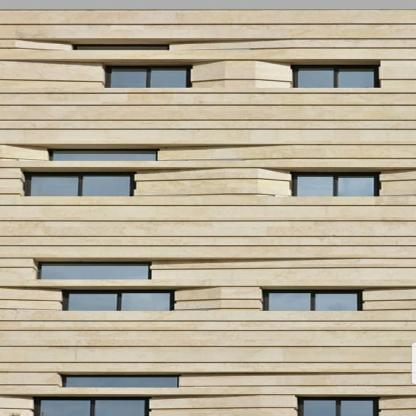Building Outline: (0, 9, 416, 416)
Facade: (0, 9, 416, 416)
Floor: (0, 224, 416, 335), (0, 109, 416, 218), (0, 10, 416, 102), (0, 342, 416, 416)
Floor Slab: (0, 335, 416, 342), (0, 218, 416, 224), (0, 102, 416, 108)
Window: (25, 172, 137, 197), (34, 396, 152, 416), (62, 290, 174, 311), (292, 171, 381, 196), (262, 289, 363, 311), (293, 65, 381, 88), (106, 66, 192, 88), (42, 263, 149, 279), (297, 396, 379, 416), (66, 377, 178, 388), (53, 151, 156, 161), (77, 46, 167, 50)
Window Hole: (21, 168, 137, 197), (62, 286, 177, 311), (289, 167, 381, 196), (32, 394, 152, 416), (103, 59, 193, 88), (291, 59, 381, 88), (261, 286, 364, 311), (34, 258, 151, 279), (59, 372, 181, 388), (48, 144, 160, 161), (296, 394, 381, 416), (72, 38, 170, 50)
